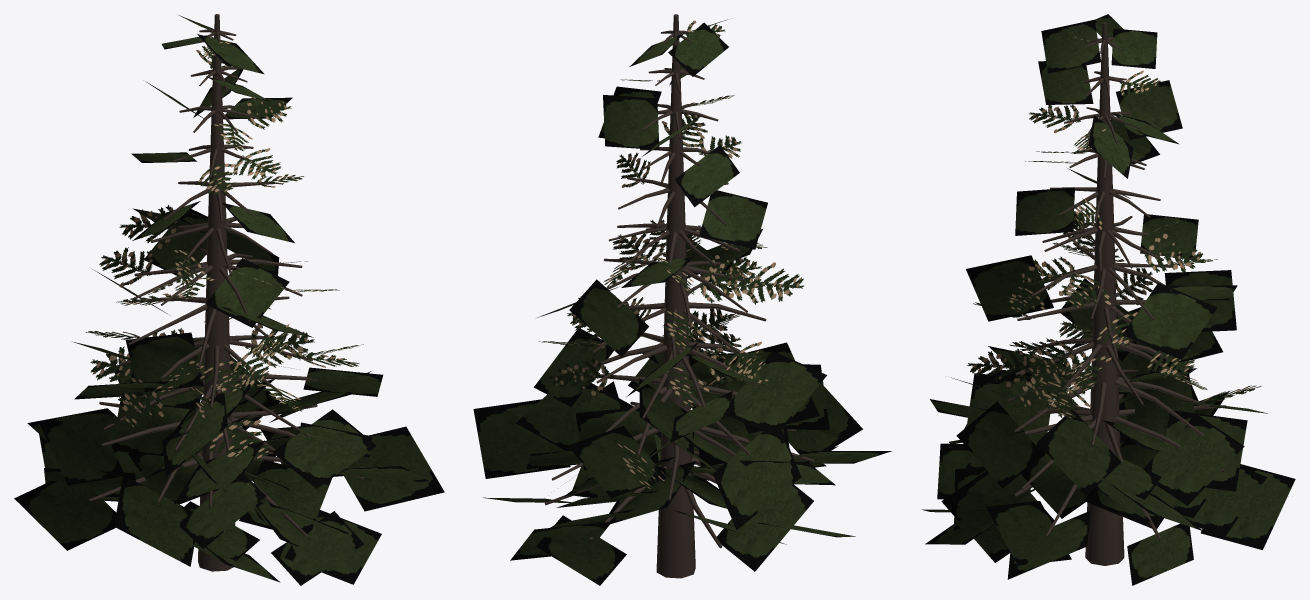
Rendered from snow_pine_2_burnt2.glb.
The picture shows the model from 3 angles, left to right: view 1: azimuth 30°, elevation 25°; view 2: azimuth 150°, elevation 25°; view 3: azimuth 270°, elevation 25°; orthographic projection. The views are drawn at different scales.
Visible parts, largest first — view 1: snow_pine_2_burnt2; view 2: snow_pine_2_burnt2; view 3: snow_pine_2_burnt2.
Boxes of the visible parts, left/top/right/bottom form: snow_pine_2_burnt2: left=14, top=14, right=444, bottom=585; snow_pine_2_burnt2: left=473, top=14, right=891, bottom=585; snow_pine_2_burnt2: left=922, top=14, right=1295, bottom=585.
Size of the model in its own units: 6.63 by 9.63 by 6.11.
Materials: 3 (2 with a texture image).
